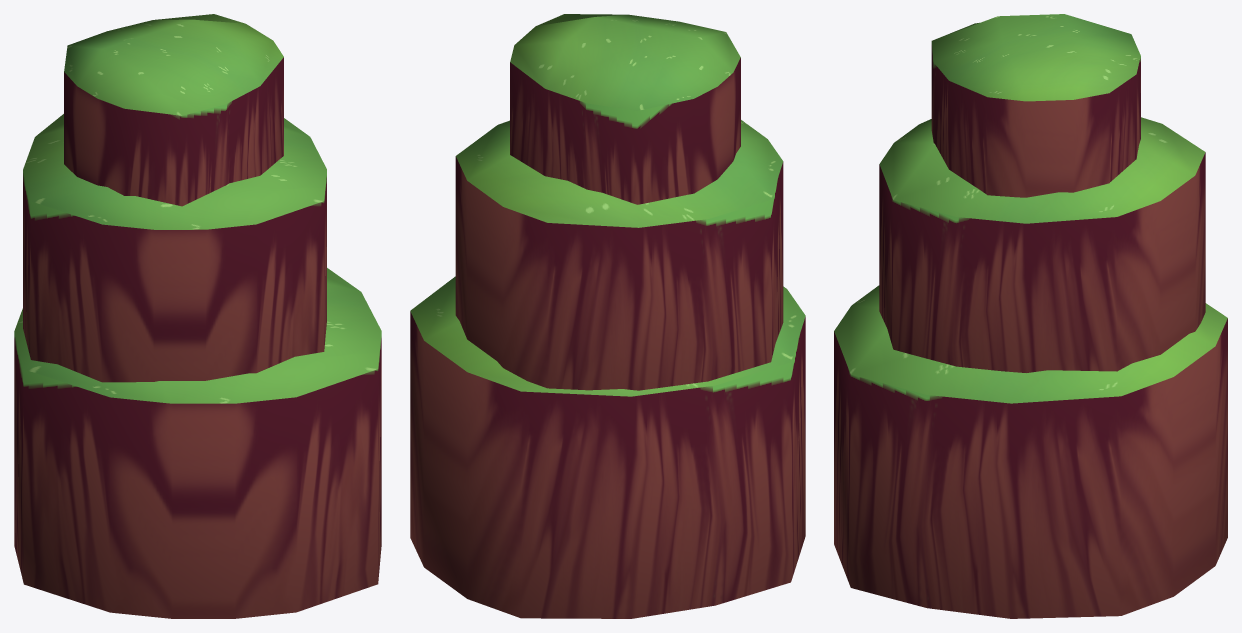
The model's file is island_07.gltf.
3 views of the same model, side by side, from view 1: azimuth 30°, elevation 25°; view 2: azimuth 150°, elevation 25°; view 3: azimuth 270°, elevation 25° (orthographic). The views are drawn at different scales.
Visible parts, largest first — view 1: Island07Mesh -col; view 2: Island07Mesh -col; view 3: Island07Mesh -col.
Boxes of the visible parts, box(x1,y1,x2,y2) form: Island07Mesh -col: box(14, 14, 381, 618); Island07Mesh -col: box(410, 14, 805, 618); Island07Mesh -col: box(834, 14, 1227, 618).
Bounding box in the file's own units: 3.1 × 4.47 × 3.23.
Materials: 1 (1 with a texture image).
